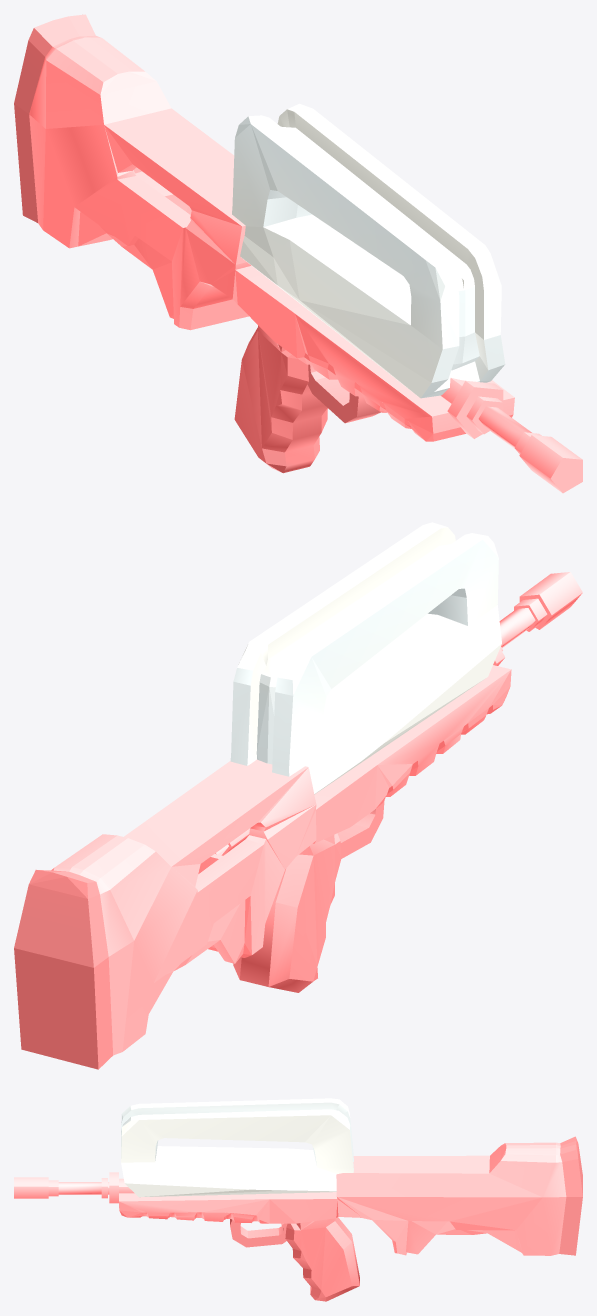
Rendered from Weapon_8.fbx.
3 renders of one model, top to bottom at view 1: azimuth 30°, elevation 25°; view 2: azimuth 150°, elevation 25°; view 3: azimuth 270°, elevation 25°, orthographic. The views are drawn at different scales.
Visible parts, largest first — view 1: FamasMesh; view 2: FamasMesh; view 3: FamasMesh.
Boxes of the visible parts, x1,y1,x2,y2 form: FamasMesh: (14, 14, 582, 493); FamasMesh: (14, 522, 582, 1069); FamasMesh: (14, 1098, 582, 1301).
Bounding box in the file's own units: 37.11 × 138 × 371.
